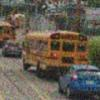buses: (23, 29, 89, 80)
